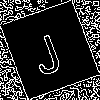J: (24, 25, 66, 77)
